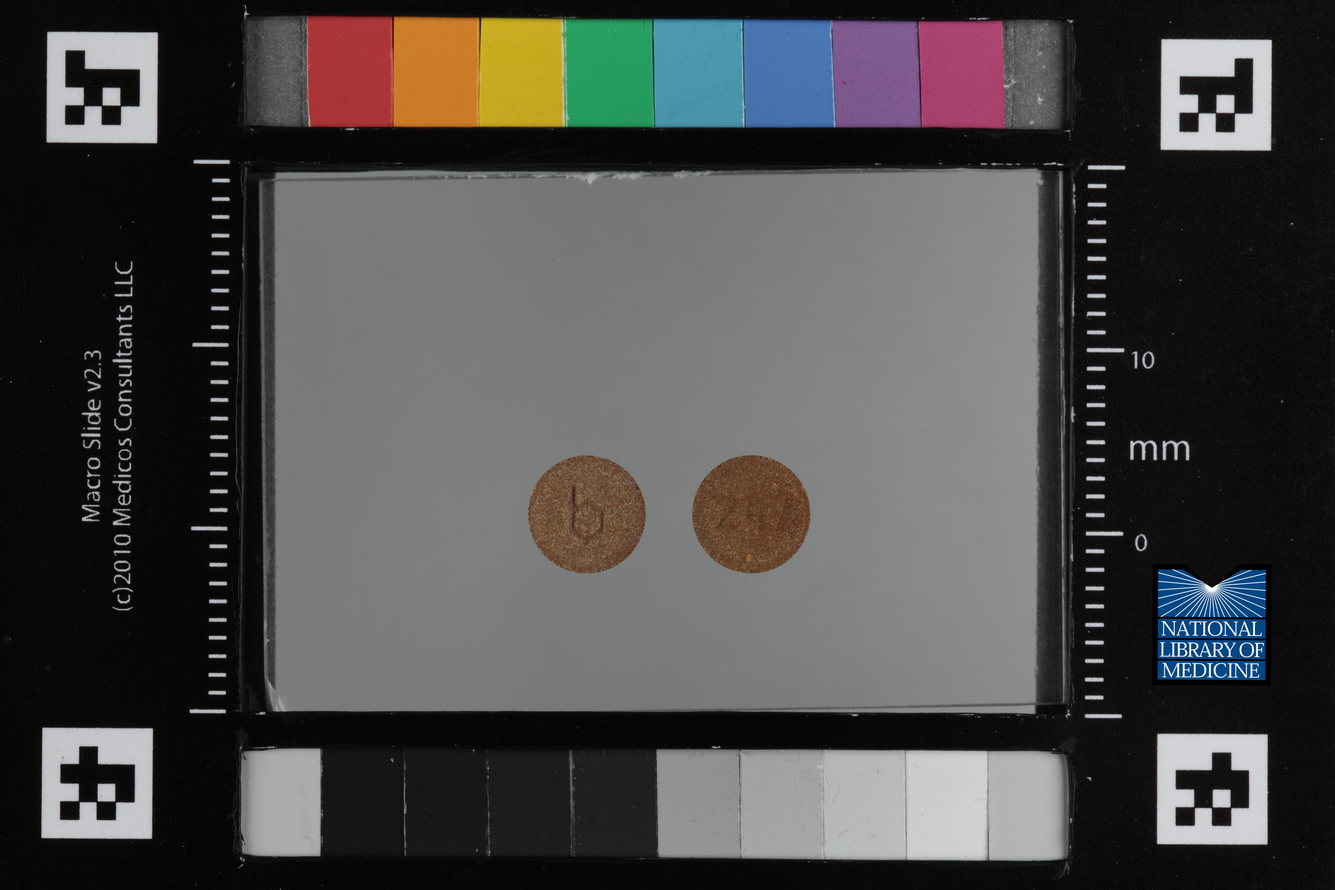Pill: (682, 445, 821, 582), (515, 449, 652, 583)
